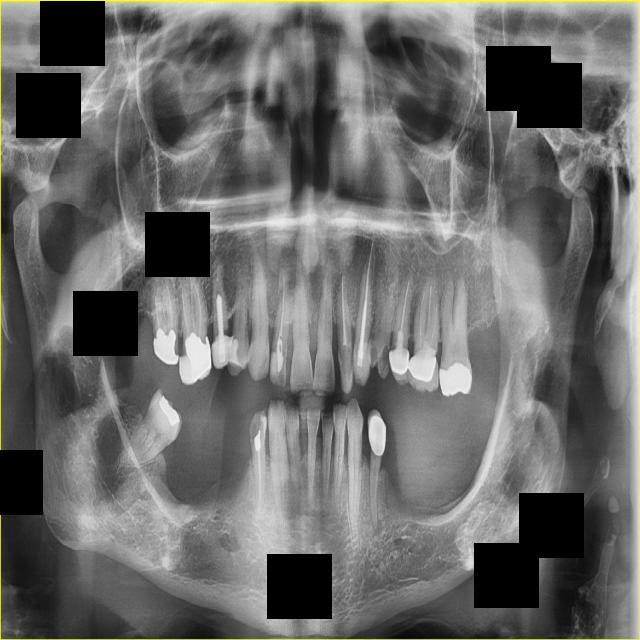71: (214, 292, 227, 362), (356, 299, 367, 367)
74: (277, 274, 285, 372), (424, 285, 435, 343), (193, 282, 205, 335), (180, 281, 191, 337), (401, 279, 412, 331), (339, 275, 347, 345), (364, 239, 373, 297), (255, 450, 262, 515), (430, 302, 439, 346), (166, 284, 174, 329), (419, 292, 425, 350), (191, 273, 196, 330), (156, 294, 161, 327), (215, 265, 219, 282)
NucleOSS Implant: (438, 361, 474, 397), (151, 325, 179, 367), (155, 394, 182, 427), (254, 428, 261, 452)
Sterngold Implant: (336, 341, 355, 395), (246, 413, 262, 442), (379, 340, 391, 374), (367, 347, 378, 364), (174, 334, 180, 355)
Straumann Implant: (351, 339, 371, 388), (208, 335, 231, 370), (269, 343, 286, 388), (228, 338, 241, 372), (396, 327, 405, 351)
Zimmer Implant: (406, 352, 441, 395), (366, 408, 388, 457), (391, 347, 410, 383)
